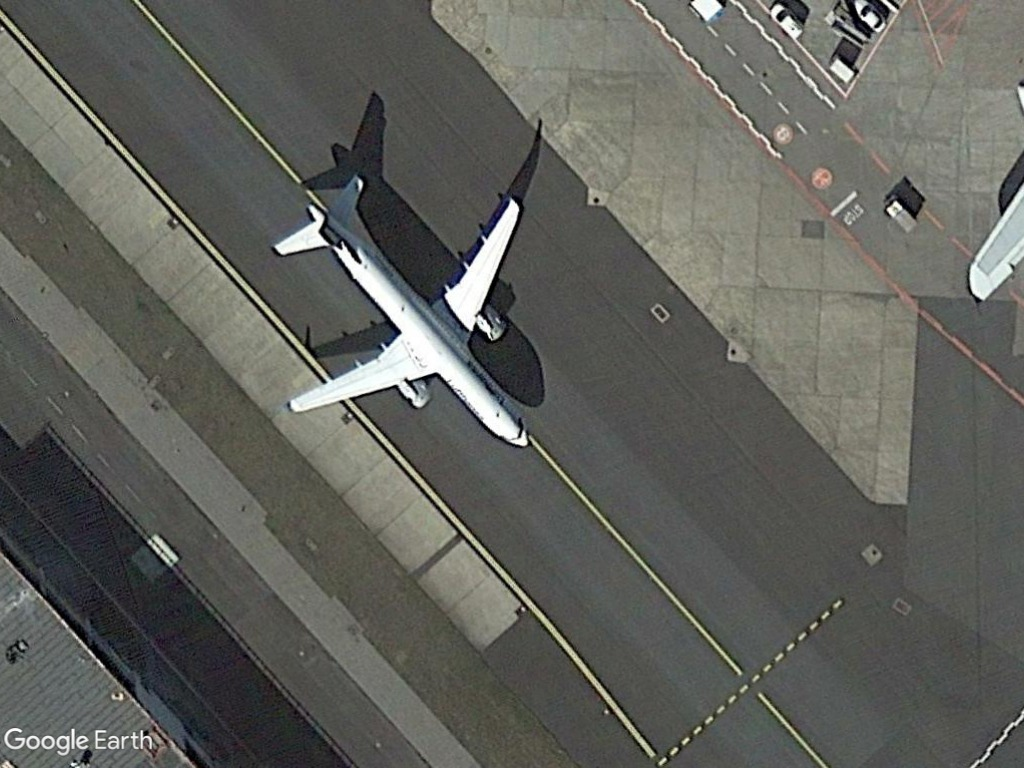airliner: (261, 170, 572, 466)
